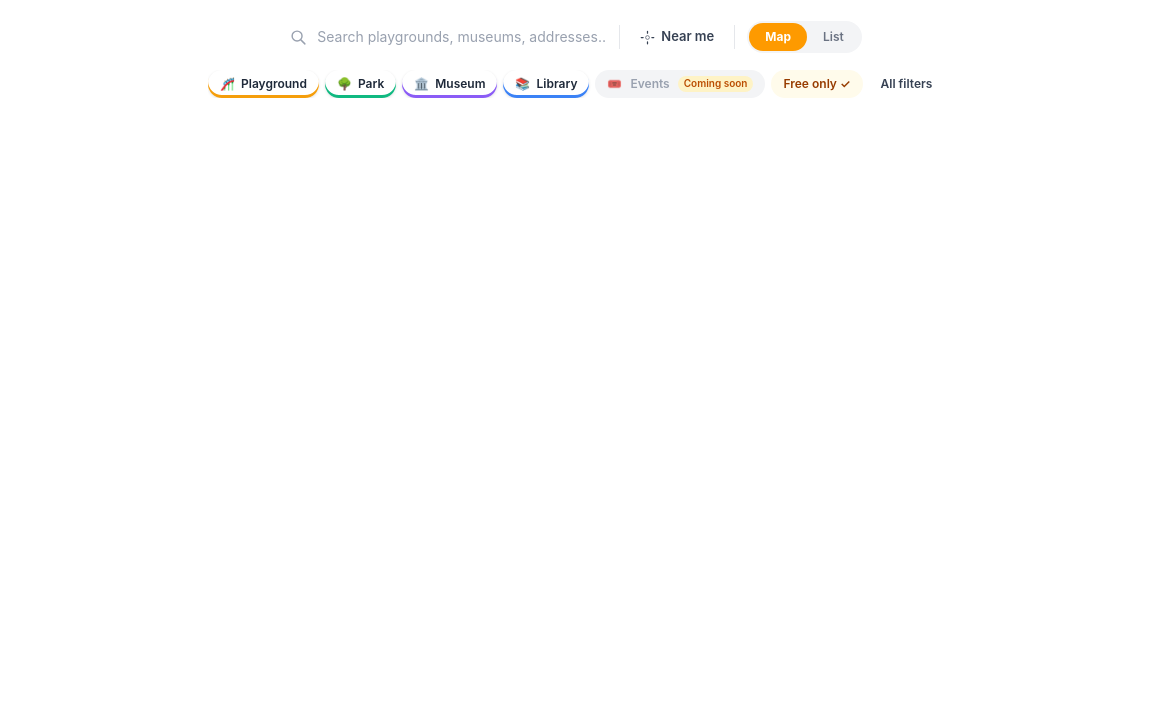
Test case: SearchFilterBar desktop chip row › opens the FiltersDrawer from All filters (via the overlay coordinator) with a count badge
Check: the button "All filters 2" is shown, box [868,70,932,98]
Click the button "All filters 2".
click(919, 84)  # box [868,70,969,98]
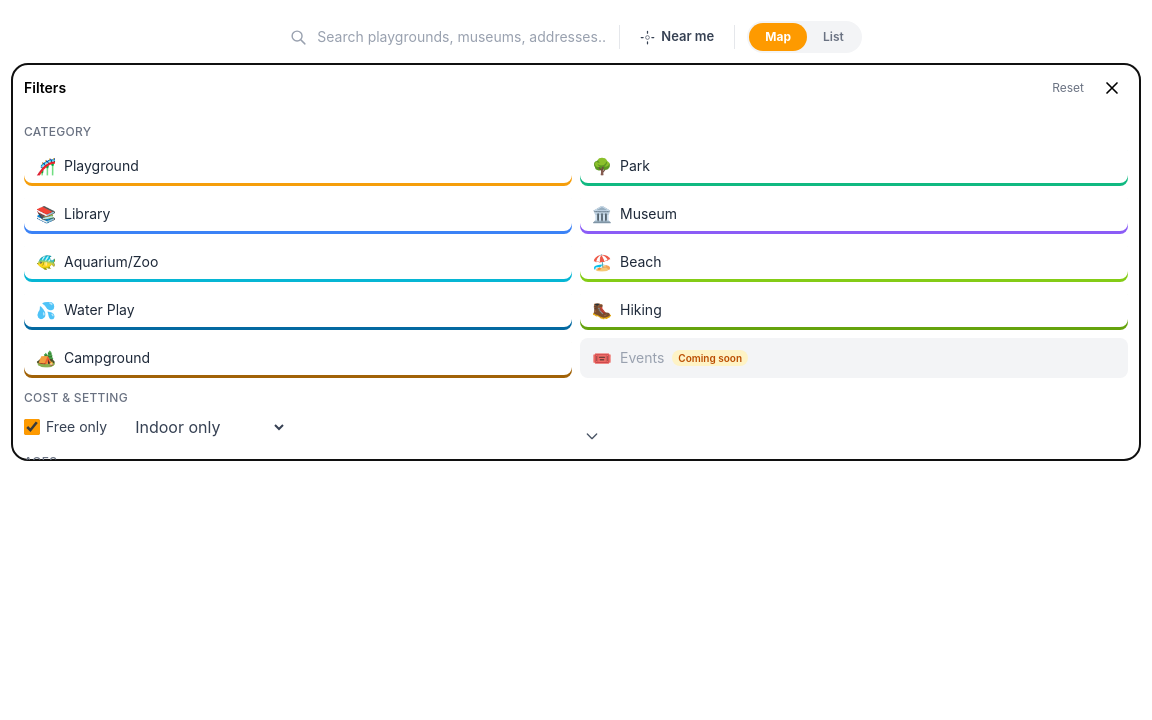
Check: the heading "Filters" is shown, box [24,78,66,98]
